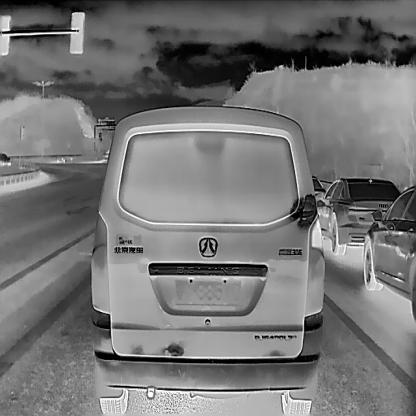car: (89, 104, 324, 415), (362, 184, 415, 324), (310, 176, 402, 256), (0, 152, 11, 165)
